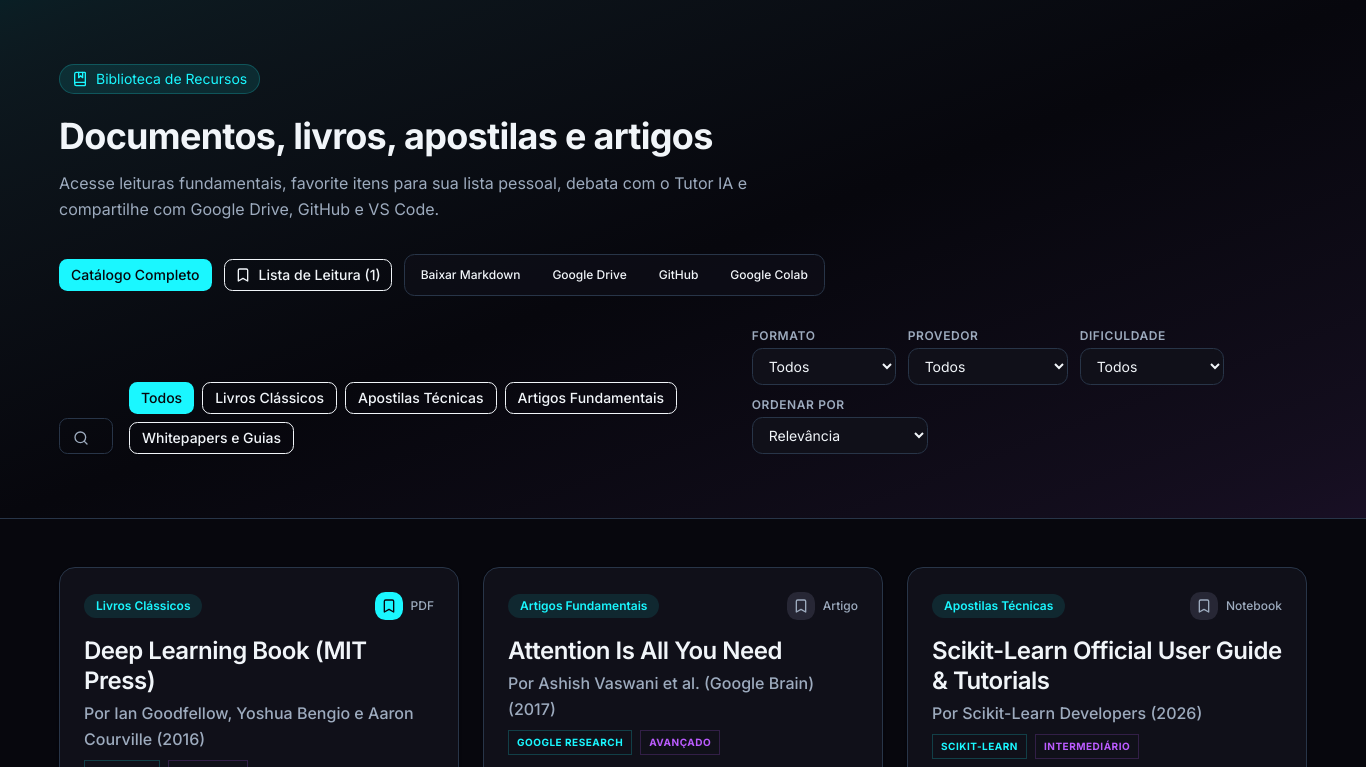
Library export interactions › oferece a Lista de Leitura e abre o Google Colab após gerar o notebook
Expected: the button "Lista de Leitura (1)" is shown, [224,259,392,291]
Click the button "Google Colab": {"x": 769, "y": 275} [718,259,820,291]
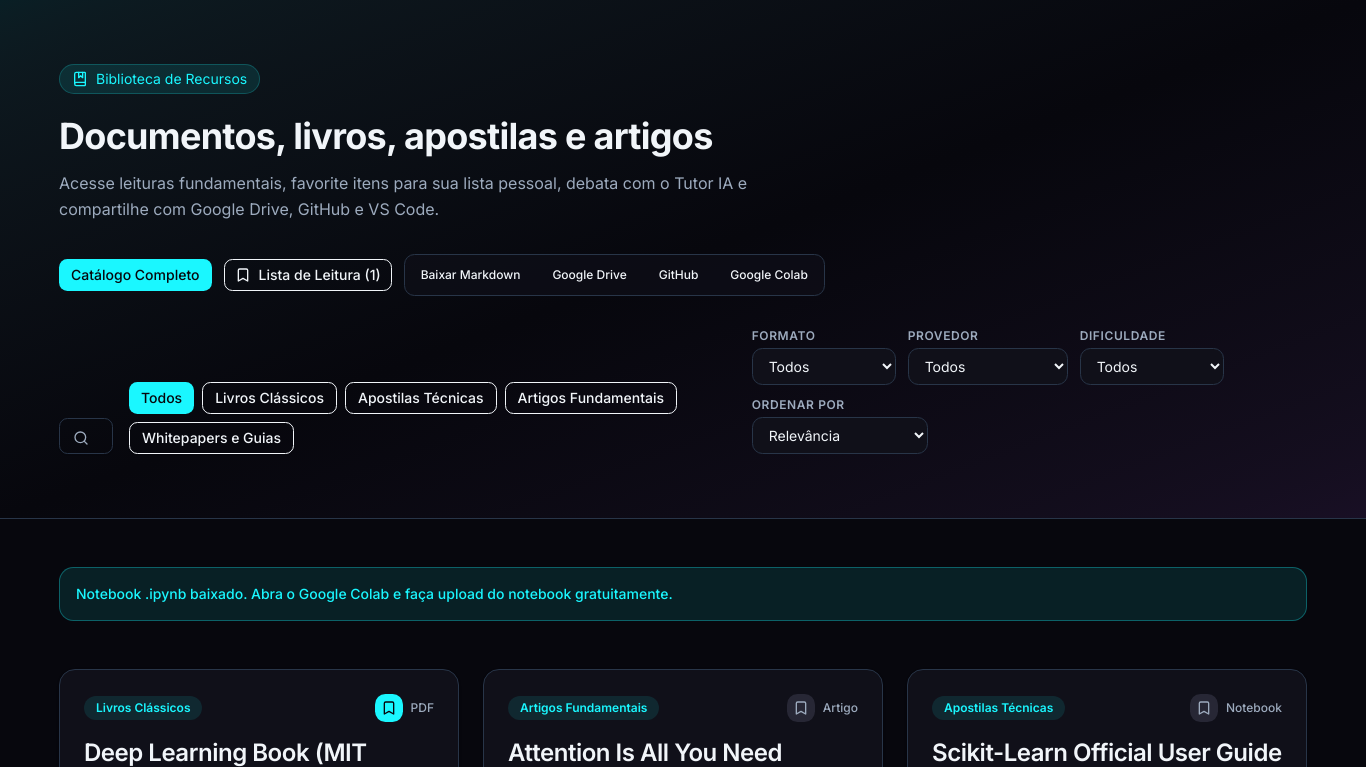
Result: the text "Notebook .ipynb baixado" is shown at [76,585,673,602]
